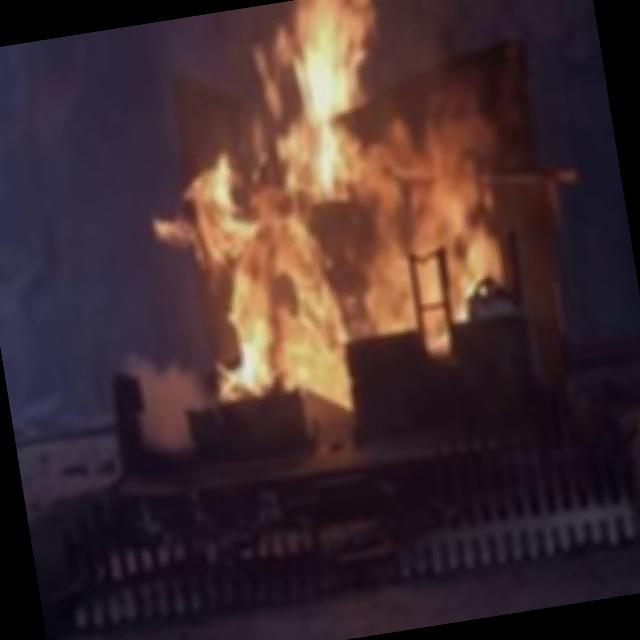fire: (123, 0, 554, 388)
